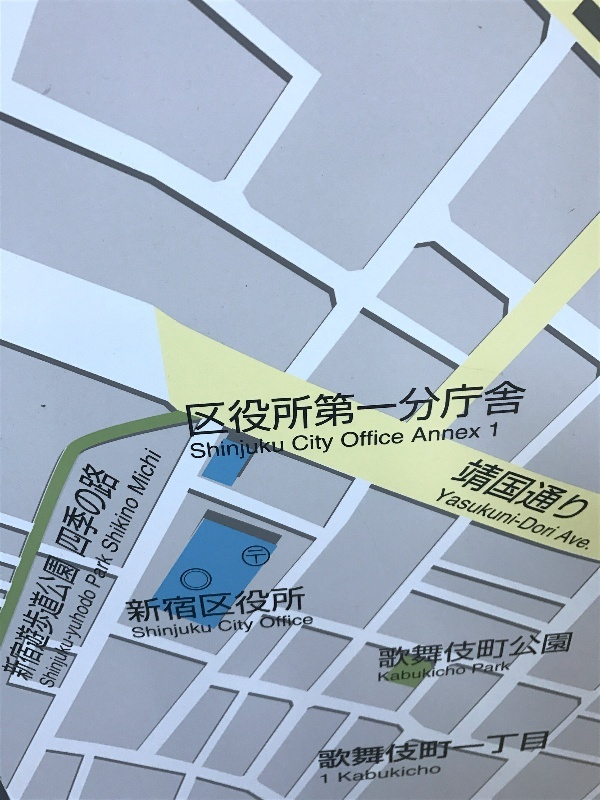text: (1, 554, 16, 688), (17, 554, 32, 688), (33, 554, 48, 688), (49, 554, 64, 688), (65, 554, 80, 688), (49, 585, 64, 693), (65, 585, 80, 693), (81, 585, 96, 693), (97, 460, 112, 559), (84, 460, 96, 559), (481, 453, 496, 529), (497, 453, 512, 529), (513, 453, 528, 529), (529, 453, 544, 529), (545, 453, 560, 529), (561, 453, 576, 529), (577, 453, 592, 529), (38, 585, 48, 693), (193, 375, 208, 439), (209, 375, 224, 439), (225, 375, 240, 439), (241, 375, 256, 439), (257, 375, 272, 439), (273, 375, 288, 439), (289, 375, 304, 439), (305, 375, 320, 439), (321, 375, 336, 439), (337, 375, 352, 439), (353, 375, 368, 439), (369, 375, 384, 439), (385, 375, 400, 439), (401, 375, 416, 439), (417, 375, 432, 439), (433, 375, 448, 439), (449, 375, 464, 439), (465, 375, 480, 439), (481, 375, 496, 439), (497, 375, 512, 439), (513, 375, 528, 439), (113, 493, 128, 556), (113, 460, 121, 559), (449, 488, 464, 540), (465, 488, 480, 540), (481, 488, 496, 540), (497, 488, 512, 540), (513, 488, 528, 540), (529, 488, 544, 540), (545, 488, 560, 540), (129, 447, 144, 497), (145, 447, 160, 497), (101, 493, 112, 556), (129, 493, 140, 556), (321, 730, 336, 772), (337, 730, 352, 772), (353, 730, 368, 772), (369, 730, 384, 772), (385, 730, 400, 772), (401, 730, 416, 772), (417, 730, 432, 772), (433, 730, 448, 772), (449, 730, 464, 772), (465, 730, 480, 772), (481, 730, 496, 772), (497, 730, 512, 772), (513, 730, 528, 772), (529, 730, 544, 772), (289, 585, 305, 624), (129, 585, 144, 624), (145, 585, 160, 624), (161, 585, 176, 624), (177, 585, 192, 624), (193, 585, 208, 624), (209, 585, 224, 624), (225, 585, 240, 624), (241, 585, 256, 624), (257, 585, 272, 624), (273, 585, 288, 624), (385, 633, 400, 671), (401, 633, 416, 671), (417, 633, 432, 671), (433, 633, 448, 671), (449, 633, 464, 671), (465, 633, 480, 671), (481, 633, 496, 671), (497, 633, 512, 671), (513, 633, 528, 671), (529, 633, 544, 671), (545, 633, 560, 671), (561, 633, 574, 671), (100, 549, 112, 589), (185, 375, 192, 439), (577, 528, 592, 554), (193, 437, 208, 462), (209, 437, 224, 462), (225, 437, 240, 462), (241, 437, 256, 462), (257, 437, 272, 462), (417, 425, 432, 447), (433, 425, 448, 447), (449, 425, 464, 447), (465, 425, 480, 447), (145, 621, 160, 640), (161, 621, 176, 640), (177, 621, 192, 640), (193, 621, 208, 640), (273, 437, 284, 462), (305, 435, 320, 453), (353, 765, 368, 783), (369, 765, 384, 783), (385, 765, 400, 783), (401, 765, 416, 783), (417, 765, 432, 783), (443, 488, 448, 540), (353, 430, 368, 447), (369, 430, 384, 447), (385, 430, 400, 447), (385, 666, 400, 683), (401, 666, 416, 683), (417, 666, 432, 683), (433, 666, 448, 683), (449, 666, 464, 683), (273, 613, 288, 629), (289, 613, 304, 629), (339, 765, 352, 783), (132, 621, 144, 640), (477, 453, 480, 529), (481, 661, 496, 676), (292, 435, 304, 453), (321, 435, 333, 453), (225, 620, 240, 634), (497, 661, 511, 676), (545, 730, 550, 772), (259, 613, 272, 629), (379, 633, 384, 671), (341, 430, 352, 447), (241, 620, 254, 634), (433, 765, 442, 783), (305, 613, 314, 629), (81, 554, 82, 688), (571, 528, 576, 554), (125, 585, 128, 624), (97, 585, 98, 693), (490, 422, 496, 439), (378, 666, 384, 683), (474, 661, 480, 676), (412, 425, 416, 447), (218, 620, 224, 634), (318, 730, 320, 772), (321, 773, 327, 786), (209, 621, 212, 640), (561, 488, 562, 540), (401, 430, 404, 447), (127, 447, 128, 497), (161, 447, 162, 497), (465, 666, 467, 683), (191, 437, 192, 462), (481, 425, 482, 447), (497, 422, 498, 439)
